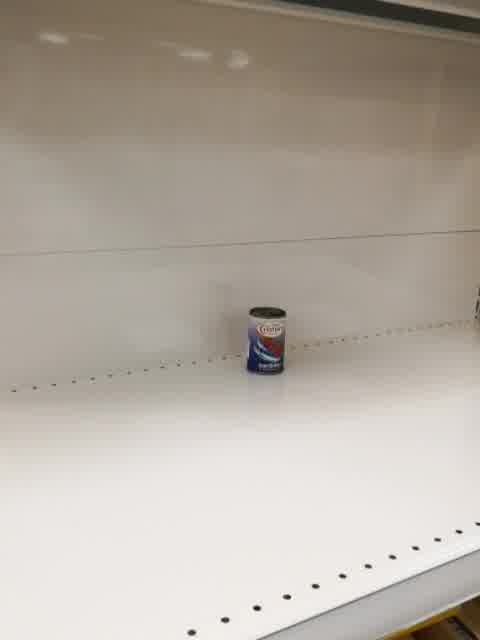sardine: (245, 305, 288, 375)
